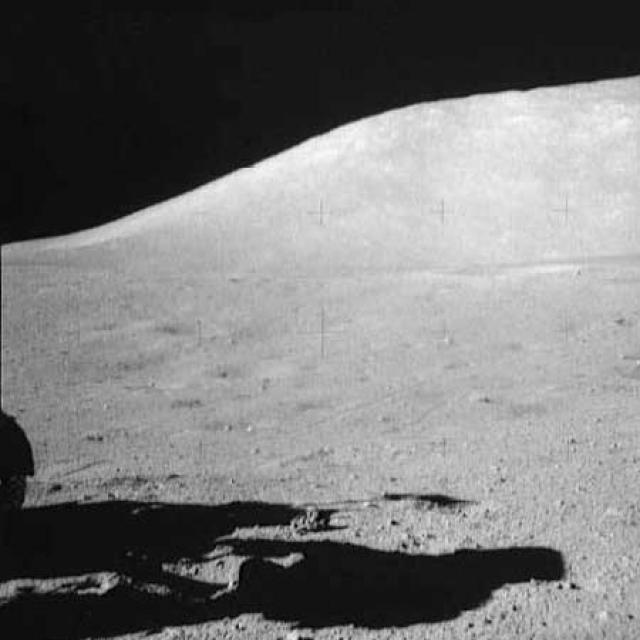artifact: (3, 405, 46, 539)
crater: (204, 356, 300, 385), (157, 309, 233, 342)
rock: (285, 501, 343, 539)
